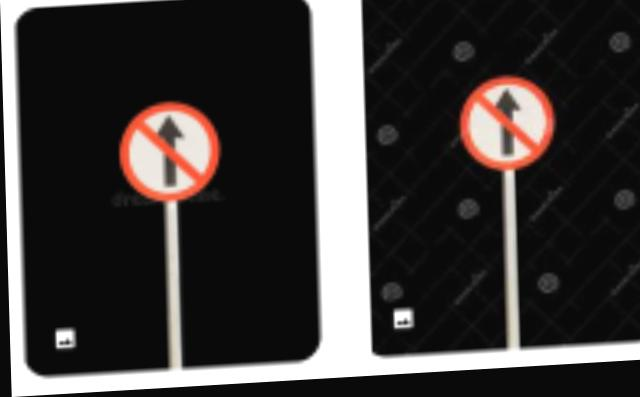not_go_straight: (113, 97, 224, 214), (459, 72, 558, 183)
